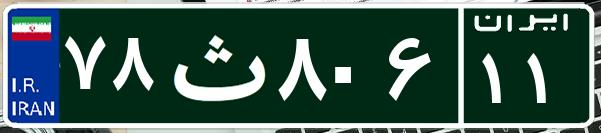0: (330, 28, 385, 110)
1: (475, 38, 525, 113), (525, 38, 570, 115)
6: (385, 28, 445, 110)
7: (57, 26, 110, 107)
8: (273, 28, 330, 110), (110, 28, 158, 105)
ث: (158, 15, 273, 115)
